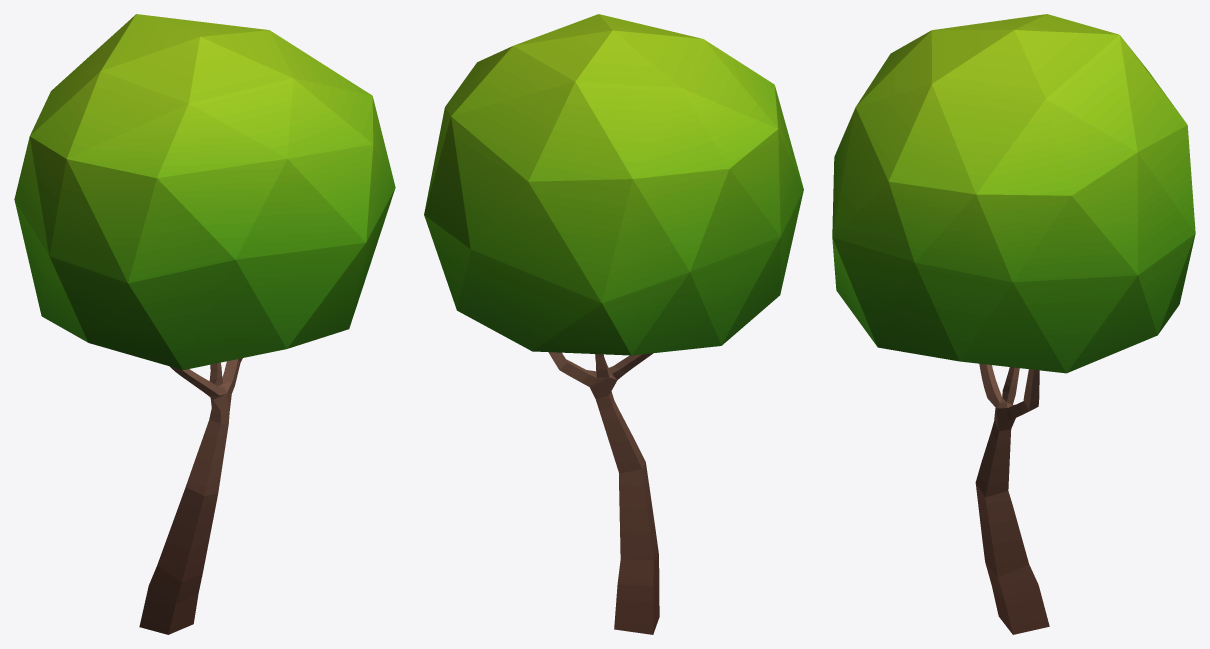
File: Arvore5.fbx
3 renders of one model, left to right at view 1: azimuth 30°, elevation 25°; view 2: azimuth 150°, elevation 25°; view 3: azimuth 270°, elevation 25°, orthographic. The views are drawn at different scales.
Parts seen in each view (by area): view 1: Arvore1; view 2: Arvore1; view 3: Arvore1.
Boxes of the visible parts, box(x1,y1,x2,y2) form: Arvore1: box(14, 14, 395, 634); Arvore1: box(424, 14, 803, 634); Arvore1: box(832, 14, 1195, 634).
Size of the model in its own units: 546 by 960 by 519.
